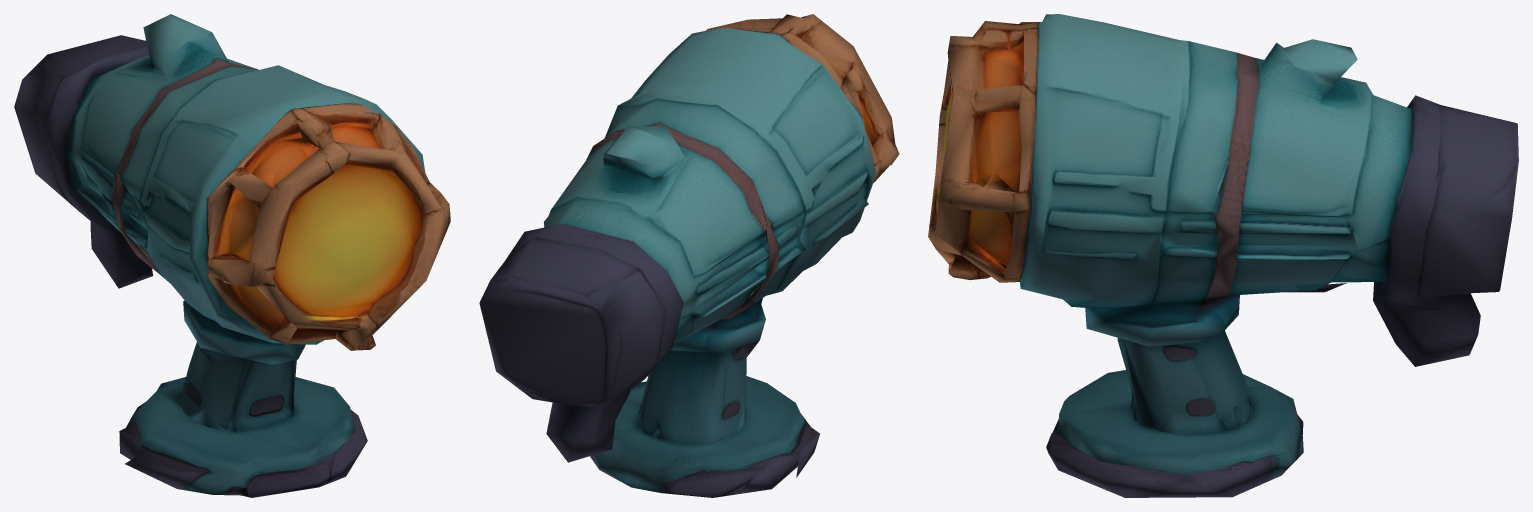
File: weapon_fireball_tertiary_1500_raw.glb
3 renders of one model, left to right at view 1: azimuth 30°, elevation 25°; view 2: azimuth 150°, elevation 25°; view 3: azimuth 270°, elevation 25°, orthographic. The views are drawn at different scales.
Visible parts, largest first — view 1: tripo_node_3b1dfda9-1955-477c-8741-8b0dbea7e92f; view 2: tripo_node_3b1dfda9-1955-477c-8741-8b0dbea7e92f; view 3: tripo_node_3b1dfda9-1955-477c-8741-8b0dbea7e92f.
Part boxes in pixels (bbox=[...]): tripo_node_3b1dfda9-1955-477c-8741-8b0dbea7e92f: bbox=[14, 14, 450, 497]; tripo_node_3b1dfda9-1955-477c-8741-8b0dbea7e92f: bbox=[479, 14, 899, 497]; tripo_node_3b1dfda9-1955-477c-8741-8b0dbea7e92f: bbox=[928, 14, 1518, 497].
Size of the model in its own units: 0.4887 by 0.761 by 0.9764.
Materials: 1 (1 with a texture image).
